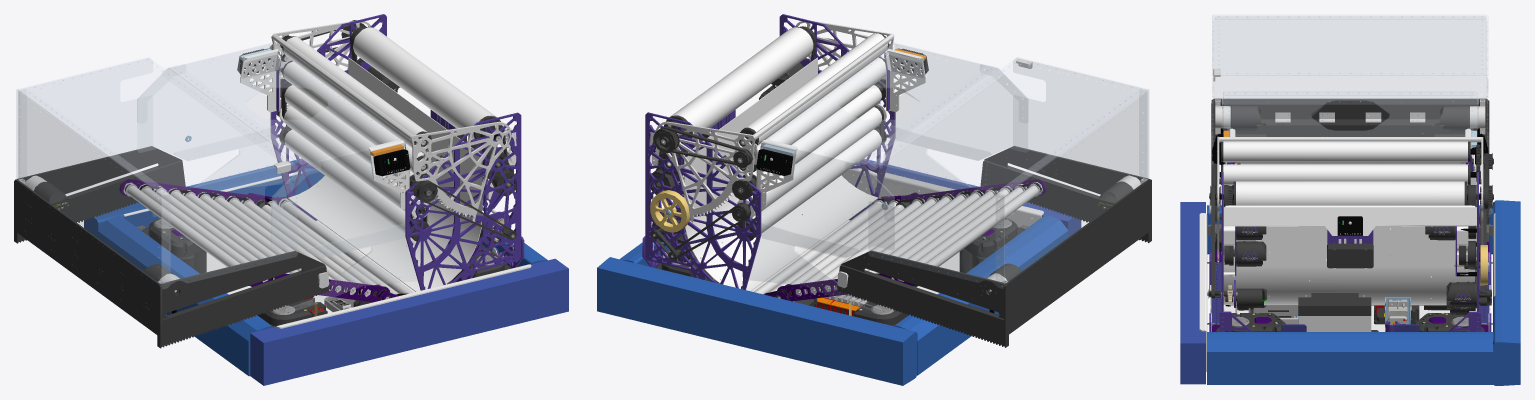
Rendered from robot.glb.
3 renders of one model, left to right at view 1: azimuth 30°, elevation 25°; view 2: azimuth 150°, elevation 25°; view 3: azimuth 270°, elevation 25°, orthographic. The views are drawn at different scales.
Parts seen in each view (by area): view 1: intake/exterior-polycarbonate, chassis/exterior-polycarbonate, intake/0.05,0.05,0.05,1, chassis/0.05,0.1,0.45,1, chassis/1,1,1,1, chassis/0.1,0.05,0.35,1, chassis/bumper, hood/0.8,0.8,0.8,1, chassis/0.05,0.05,0.05,1, shooter-drum/1,1,1,1, hood-roller-1/1,1,1,1, feeder-vertical-0/1,1,1,1 (+19 smaller); view 2: intake/exterior-polycarbonate, chassis/exterior-polycarbonate, chassis/bumper, intake/0.05,0.05,0.05,1, chassis/1,1,1,1, chassis/0.1,0.05,0.35,1, chassis/0.05,0.05,0.05,1, hood/0.8,0.8,0.8,1, shooter-drum/1,1,1,1, hood-roller-1/1,1,1,1, feeder-vertical-0/1,1,1,1, hood-roller-0/1,1,1,1 (+20 smaller); view 3: intake/exterior-polycarbonate, chassis/1,1,1,1, chassis/bumper, chassis/0.05,0.05,0.05,1, chassis/exterior-polycarbonate, intake/0.05,0.05,0.05,1, shooter-drum/1,1,1,1, hood-roller-1/1,1,1,1, hood-roller-0/1,1,1,1, chassis/0.05,0.1,0.45,1, chassis/0.1,0.05,0.35,1, hood/0.8,0.8,0.8,1 (+11 smaller).
Part boxes in pixels (x1,y1,x2,y2): intake/exterior-polycarbonate: (16, 57, 297, 288); chassis/exterior-polycarbonate: (137, 43, 418, 313); intake/0.05,0.05,0.05,1: (14, 146, 328, 348); chassis/0.05,0.1,0.45,1: (250, 258, 568, 385); chassis/1,1,1,1: (124, 49, 531, 328); chassis/0.1,0.05,0.35,1: (270, 14, 524, 290); chassis/bumper: (84, 158, 547, 376); hood/0.8,0.8,0.8,1: (271, 21, 511, 221); chassis/0.05,0.05,0.05,1: (125, 26, 516, 327); shooter-drum/1,1,1,1: (353, 27, 496, 139); hood-roller-1/1,1,1,1: (283, 36, 428, 147); feeder-vertical-0/1,1,1,1: (284, 129, 414, 233); intake/exterior-polycarbonate: (868, 57, 1149, 288); chassis/exterior-polycarbonate: (747, 43, 1028, 312); chassis/bumper: (597, 215, 1068, 385); intake/0.05,0.05,0.05,1: (837, 146, 1151, 347); chassis/1,1,1,1: (650, 49, 1043, 294); chassis/0.1,0.05,0.35,1: (642, 14, 895, 289); chassis/0.05,0.05,0.05,1: (650, 26, 1025, 326); hood/0.8,0.8,0.8,1: (655, 20, 894, 222); shooter-drum/1,1,1,1: (669, 27, 813, 144); hood-roller-1/1,1,1,1: (744, 33, 887, 145); feeder-vertical-0/1,1,1,1: (752, 129, 881, 237); hood-roller-0/1,1,1,1: (756, 57, 886, 170); intake/exterior-polycarbonate: (1212, 14, 1488, 165); chassis/1,1,1,1: (1199, 128, 1495, 371); chassis/bumper: (1207, 200, 1520, 385); chassis/0.05,0.05,0.05,1: (1208, 185, 1491, 331); chassis/exterior-polycarbonate: (1222, 91, 1478, 144); intake/0.05,0.05,0.05,1: (1211, 98, 1489, 221); shooter-drum/1,1,1,1: (1236, 181, 1464, 205); hood-roller-1/1,1,1,1: (1223, 141, 1467, 162); hood-roller-0/1,1,1,1: (1223, 164, 1467, 185); chassis/0.05,0.1,0.45,1: (1180, 202, 1205, 384); chassis/0.1,0.05,0.35,1: (1209, 155, 1491, 331); hood/0.8,0.8,0.8,1: (1217, 136, 1483, 261).
Size of the model in its own units: 1.06 by 0.5601 by 0.8395.
